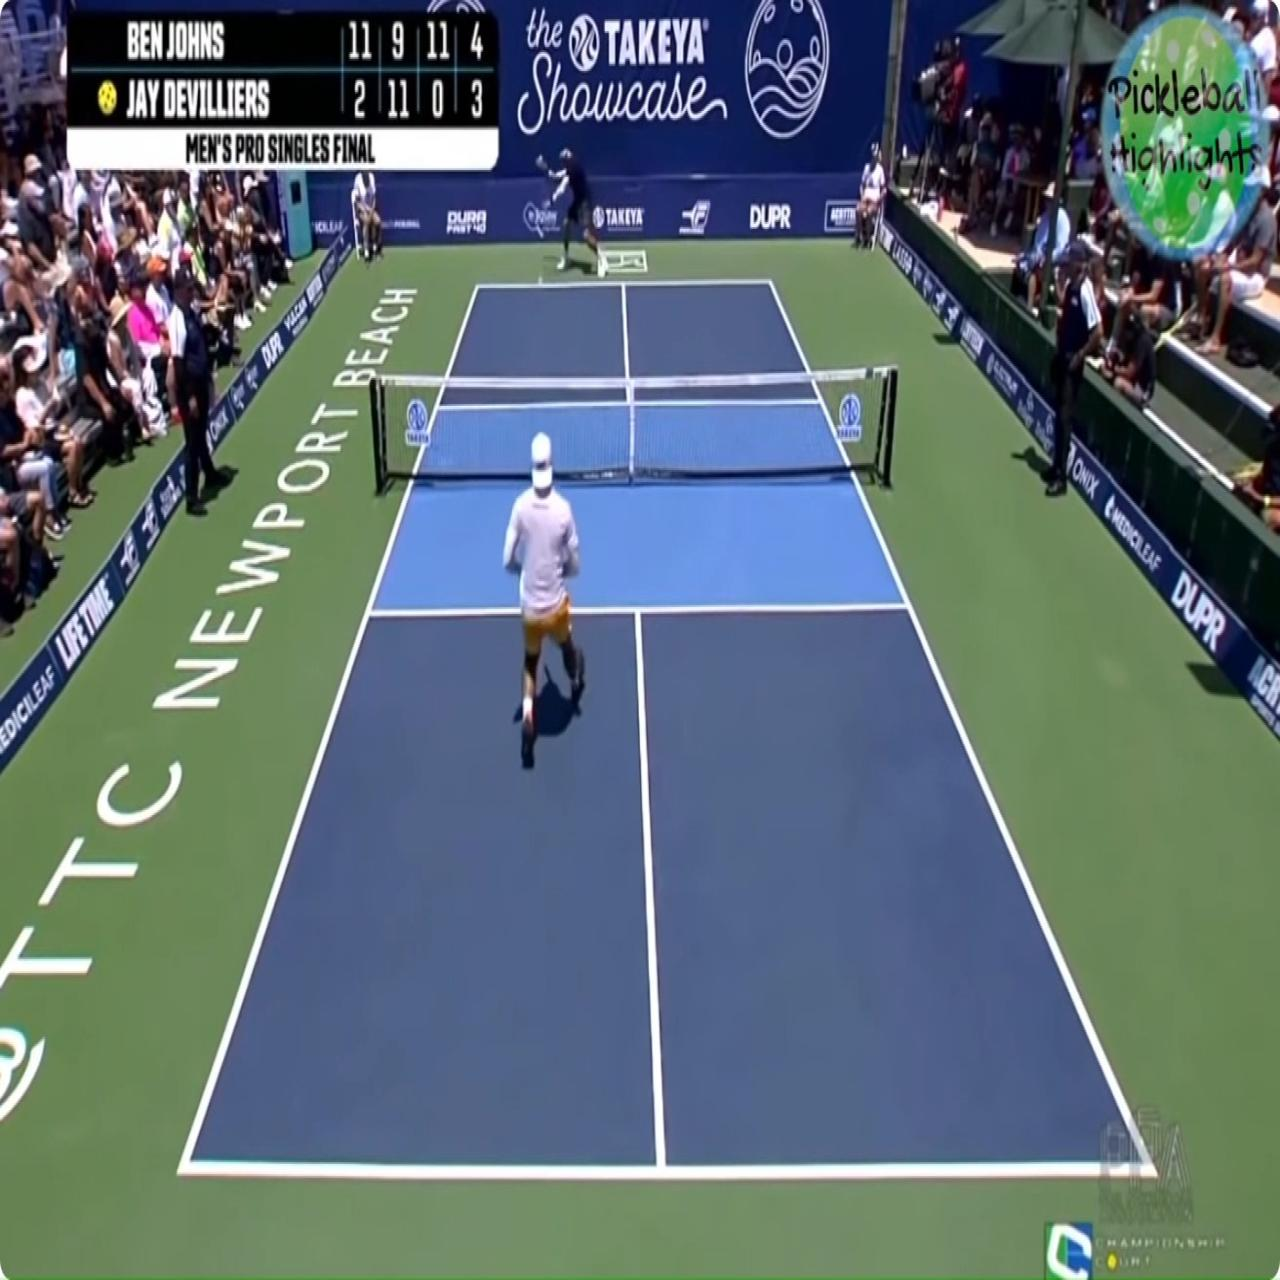pickleball: (537, 274, 544, 286)
